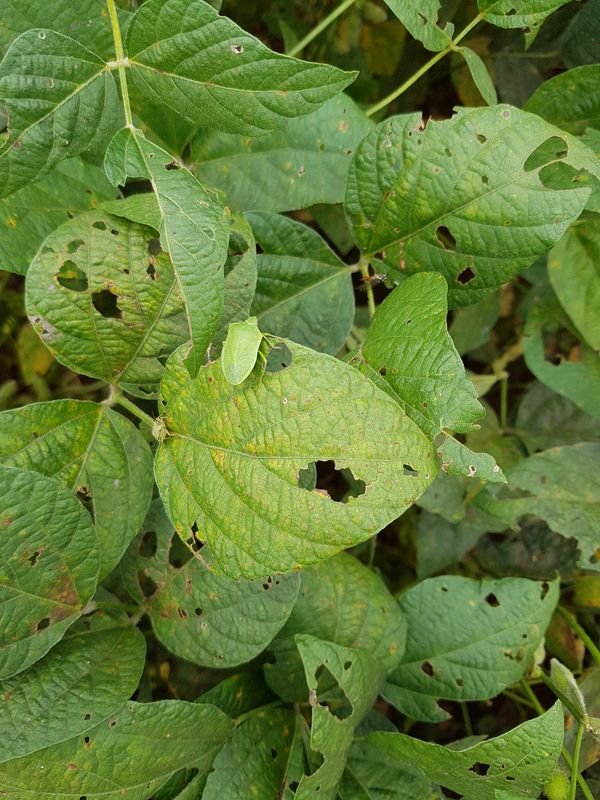Euschistus_heros_ninfa: (145, 410, 177, 448)
Nezara_viridula_adulto: (204, 298, 288, 394)
